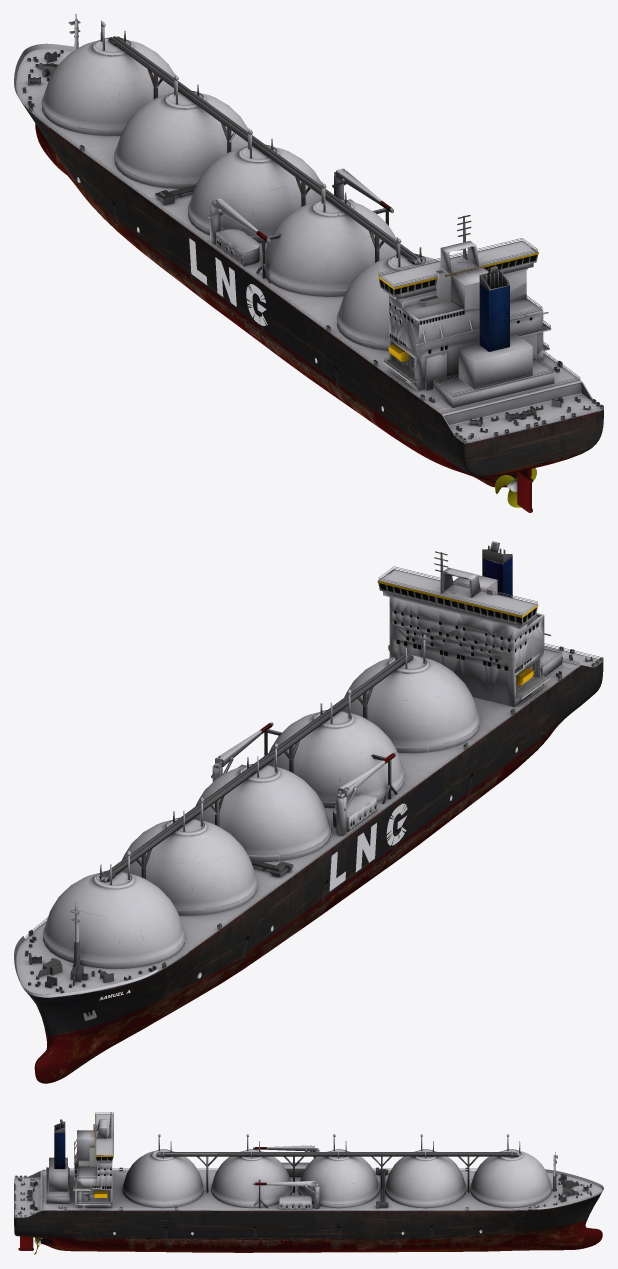
File: ship8.glb
The picture shows the model from 3 angles, top to bottom: view 1: azimuth 30°, elevation 25°; view 2: azimuth 150°, elevation 25°; view 3: azimuth 270°, elevation 25°; orthographic projection. The views are drawn at different scales.
Visible parts, largest first — view 1: 08; view 2: 08; view 3: 08.
Boxes of the visible parts, x1,y1,x2,y2 form: 08: (14, 14, 603, 512); 08: (14, 541, 603, 1083); 08: (14, 1112, 603, 1254).
Size of the model in its own units: 28.61 by 45.73 by 171.
2 materials, 2 textured.
